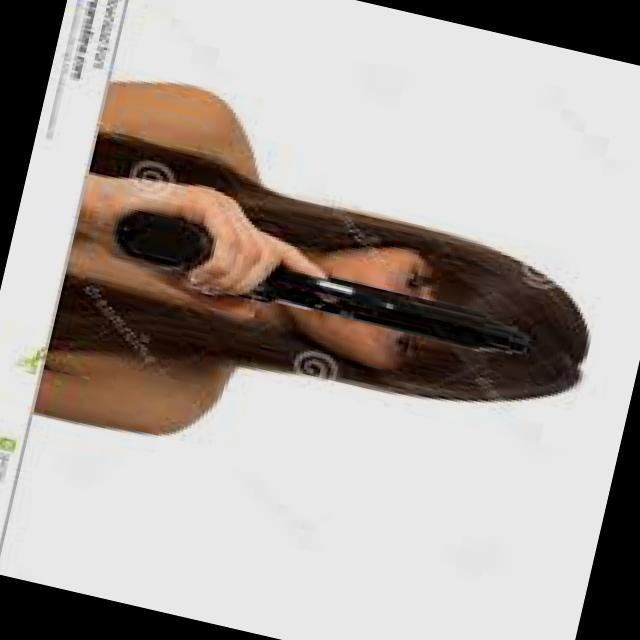handgun: (97, 170, 560, 382)
